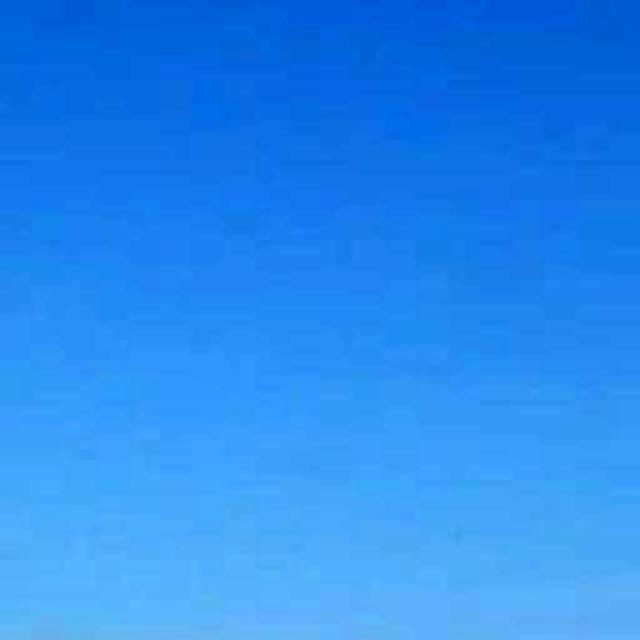drone: (431, 502, 489, 569)
